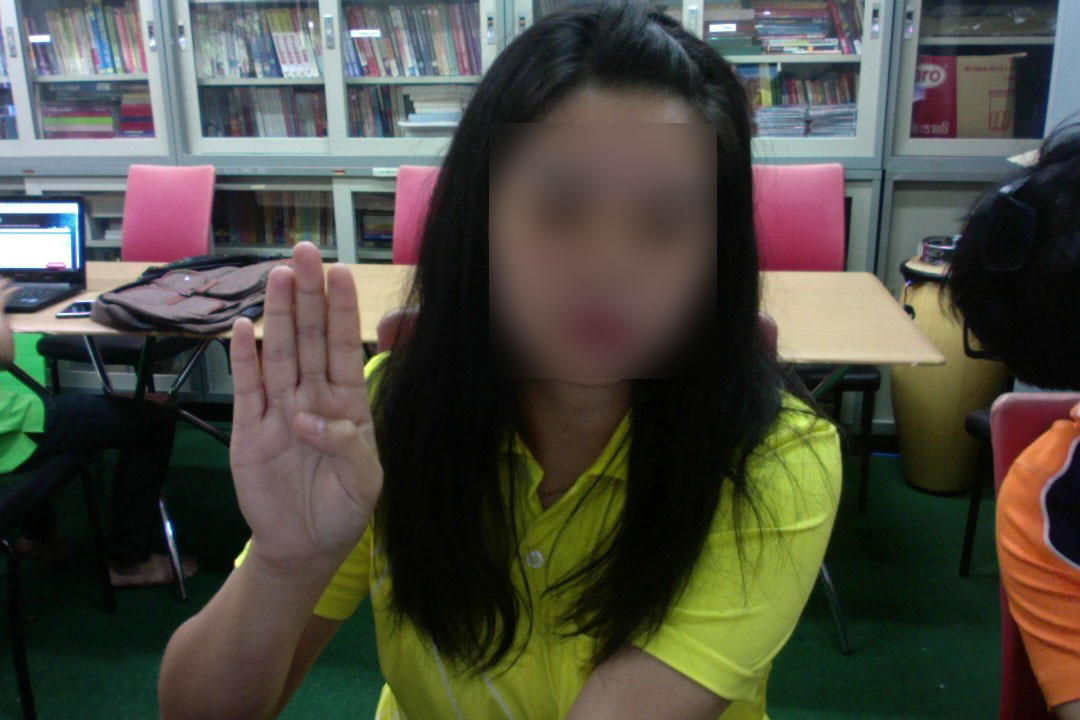bor: (221, 234, 392, 579)
